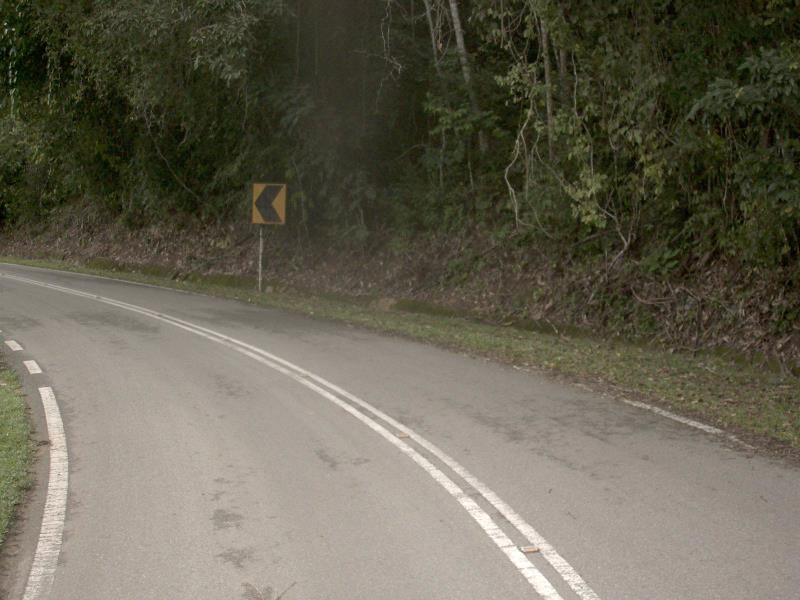traffic_sign: (243, 171, 294, 235)
